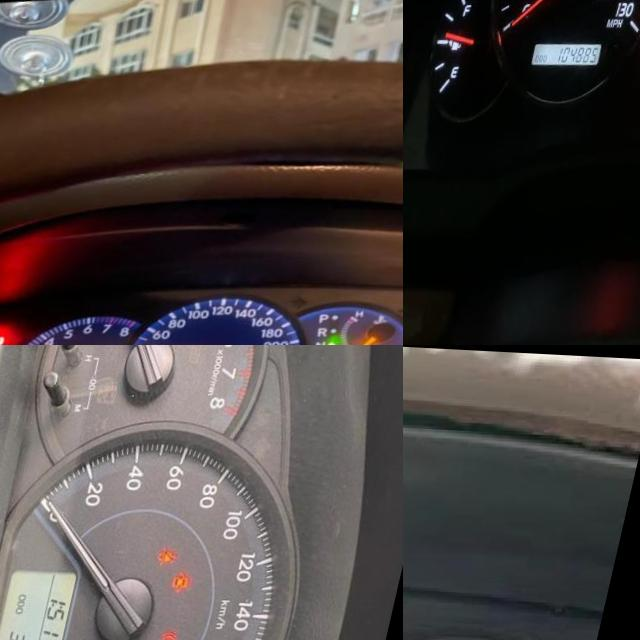Seat Belt: (169, 544, 192, 562)
